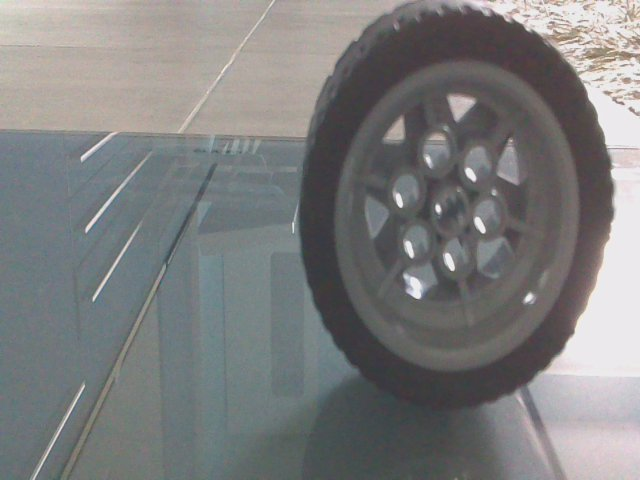Rad: (297, 2, 621, 412)
